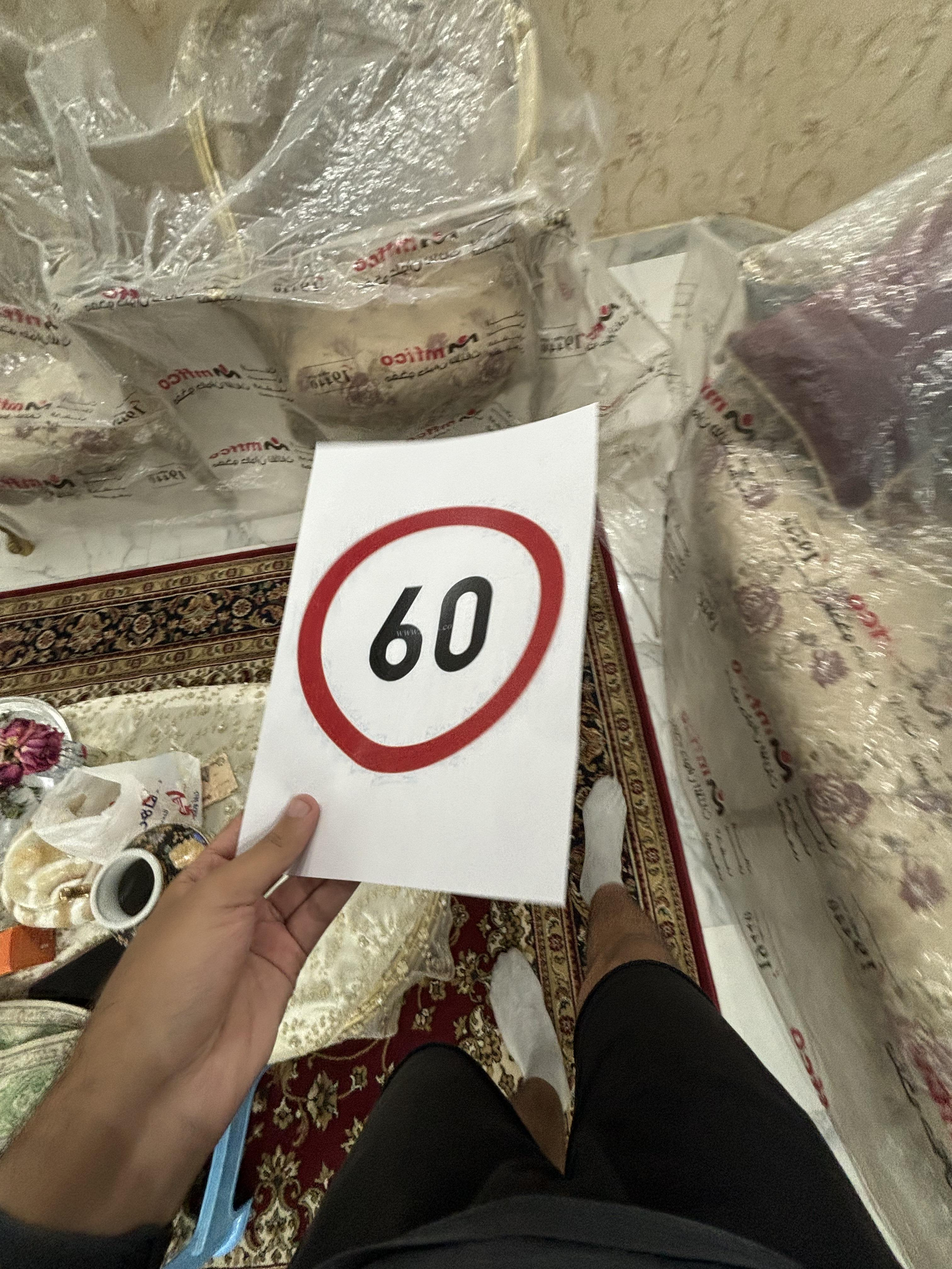60-Speed: (297, 501, 571, 775)
